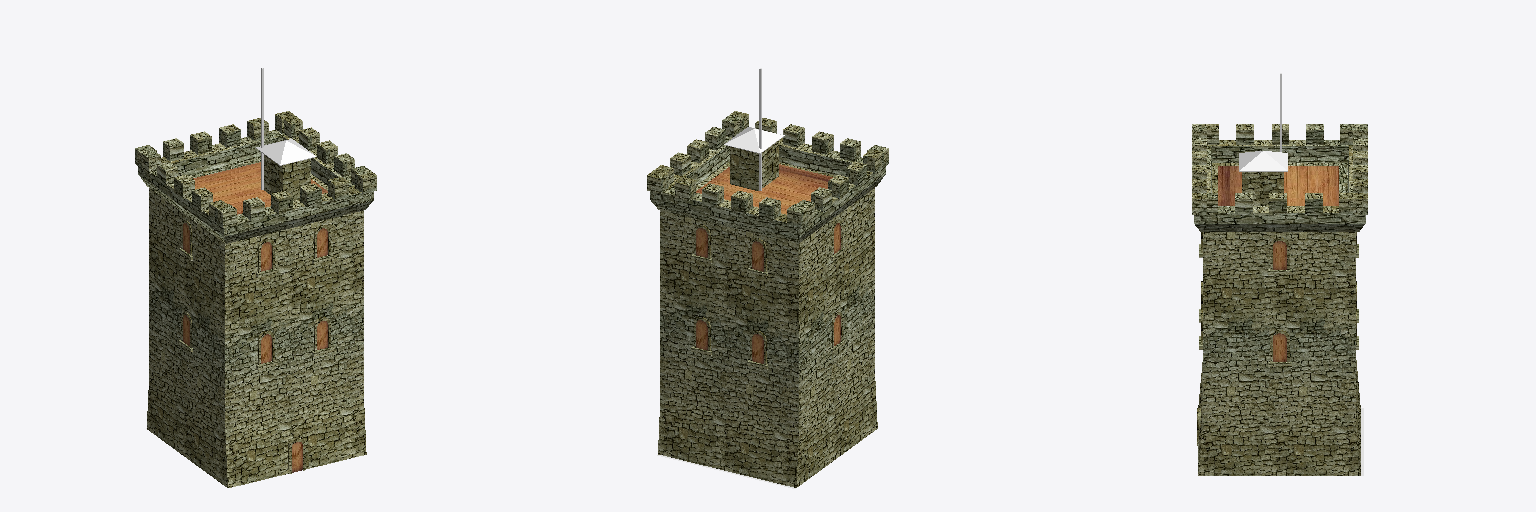
3 renders of one model, left to right at view 1: azimuth 30°, elevation 25°; view 2: azimuth 150°, elevation 25°; view 3: azimuth 270°, elevation 25°, orthographic.
Visible parts, largest first — view 1: limestone, floor, roof; view 2: limestone, floor, roof; view 3: limestone, floor, roof.
Part boxes in pixels (bbox=[...]): limestone: bbox=[135, 111, 376, 487]; floor: bbox=[183, 162, 327, 472]; roof: bbox=[256, 68, 316, 189]; limestone: bbox=[647, 111, 888, 487]; floor: bbox=[696, 164, 840, 363]; roof: bbox=[724, 68, 784, 190]; limestone: bbox=[1192, 124, 1367, 475]; floor: bbox=[1218, 166, 1338, 361]; roof: bbox=[1239, 73, 1287, 171].
Size of the model in its own units: 84.84 by 196 by 84.17.
Materials: 4 (2 with a texture image).